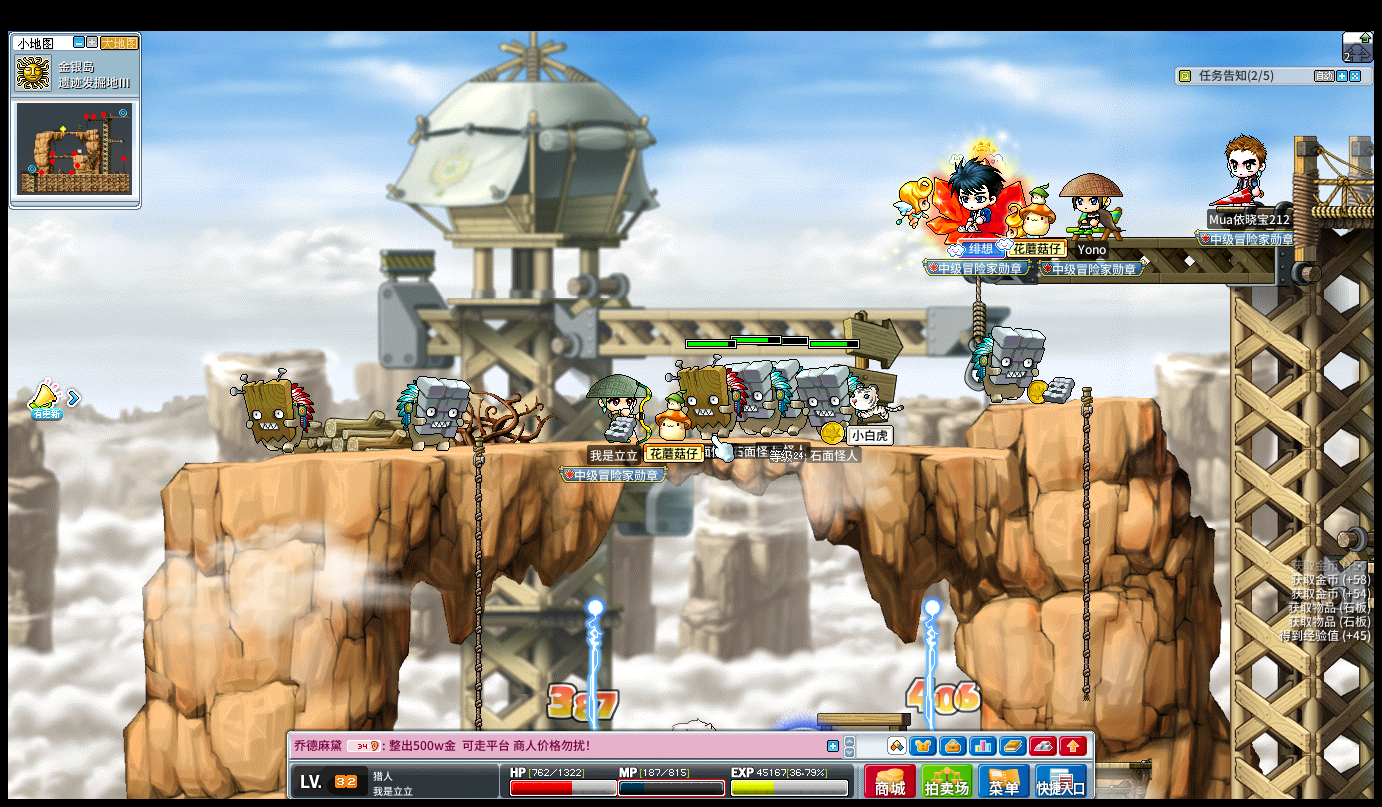floor: (177, 431, 1059, 460), (123, 428, 1031, 455), (994, 392, 1157, 408)
monster: (232, 369, 314, 457), (971, 325, 1046, 406), (396, 375, 470, 452), (672, 357, 744, 436), (795, 364, 859, 442), (735, 360, 790, 436)
rope: (471, 430, 484, 802), (1077, 382, 1092, 700), (472, 431, 485, 713)
